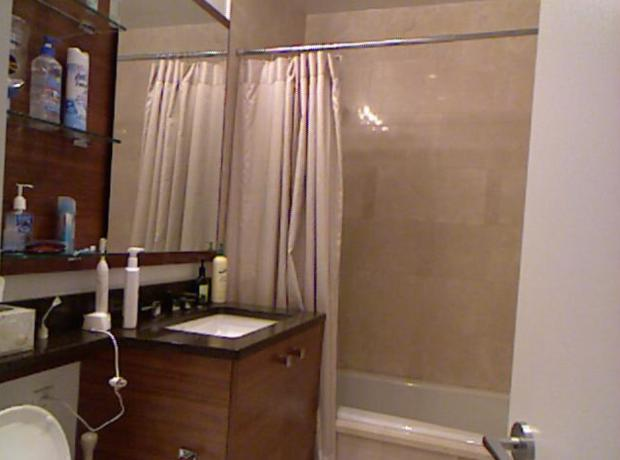Ducha: (239, 49, 506, 455)
Lavamanos: (142, 288, 287, 359)
Sanitario: (1, 375, 74, 458)
